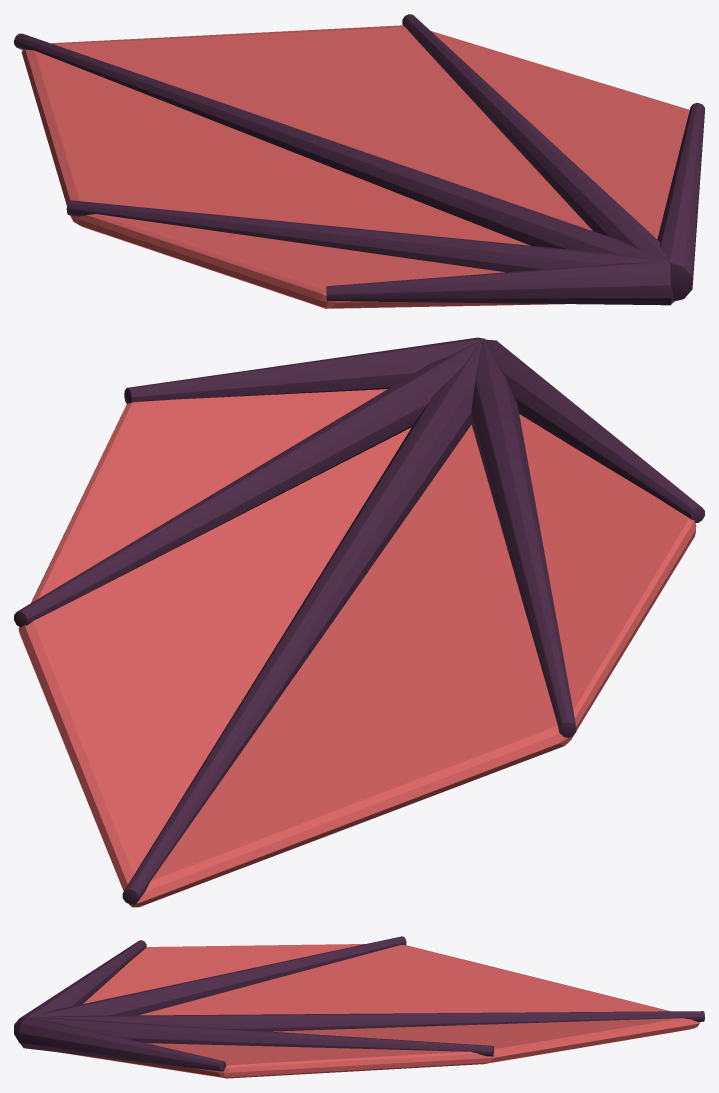
File: wing_glider.glb
The picture shows the model from 3 angles, top to bottom: view 1: azimuth 30°, elevation 25°; view 2: azimuth 150°, elevation 25°; view 3: azimuth 270°, elevation 25°; orthographic projection. The views are drawn at different scales.
Visible parts, largest first — view 1: wing_glider; view 2: wing_glider; view 3: wing_glider.
Part boxes in pixels (x1=…): wing_glider: x1=14, y1=14, x2=704, y2=308; wing_glider: x1=14, y1=337, x2=704, y2=907; wing_glider: x1=14, y1=936, x2=704, y2=1078.
Size of the model in its own units: 1.4 by 0.3094 by 2.3.
